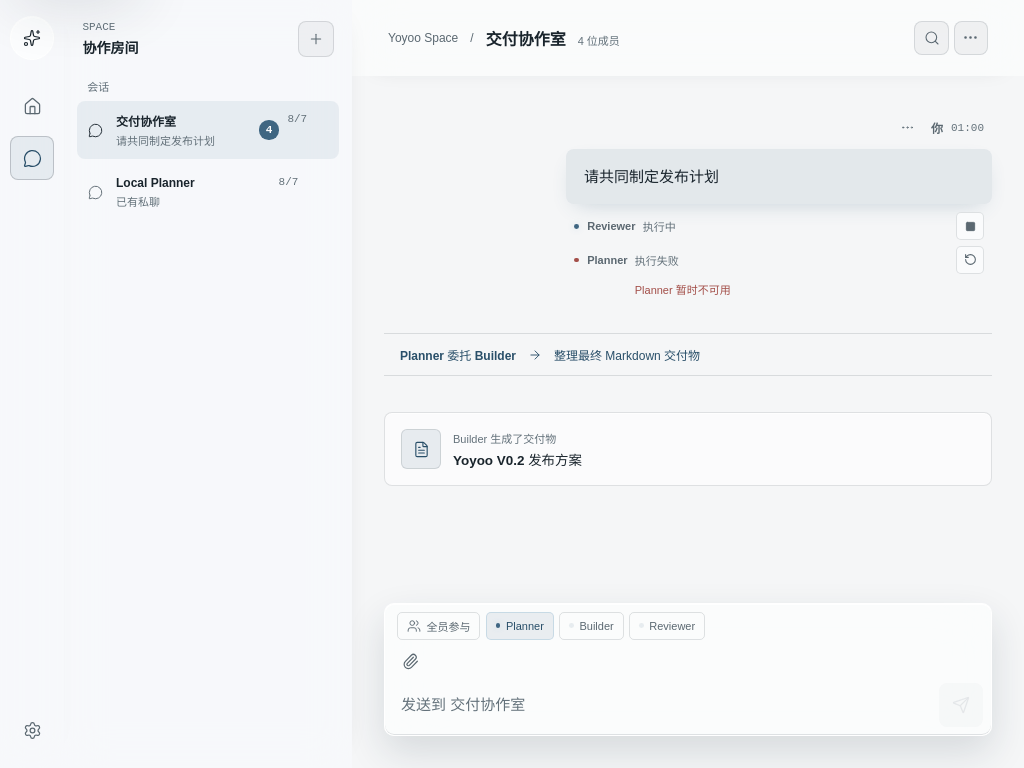
Scenario: CollaborationRoom › shows only real conversations and opens an existing direct room from the rail
Expected: the heading "交付协作室" is shown, left=486, top=26, right=566, bottom=50
Expected: the text named "4条未读消息" is shown, left=259, top=120, right=279, bottom=140
Click the button with aria-label "切换到Local Planner". click: click(192, 192)
box: left=77, top=164, right=307, bottom=221
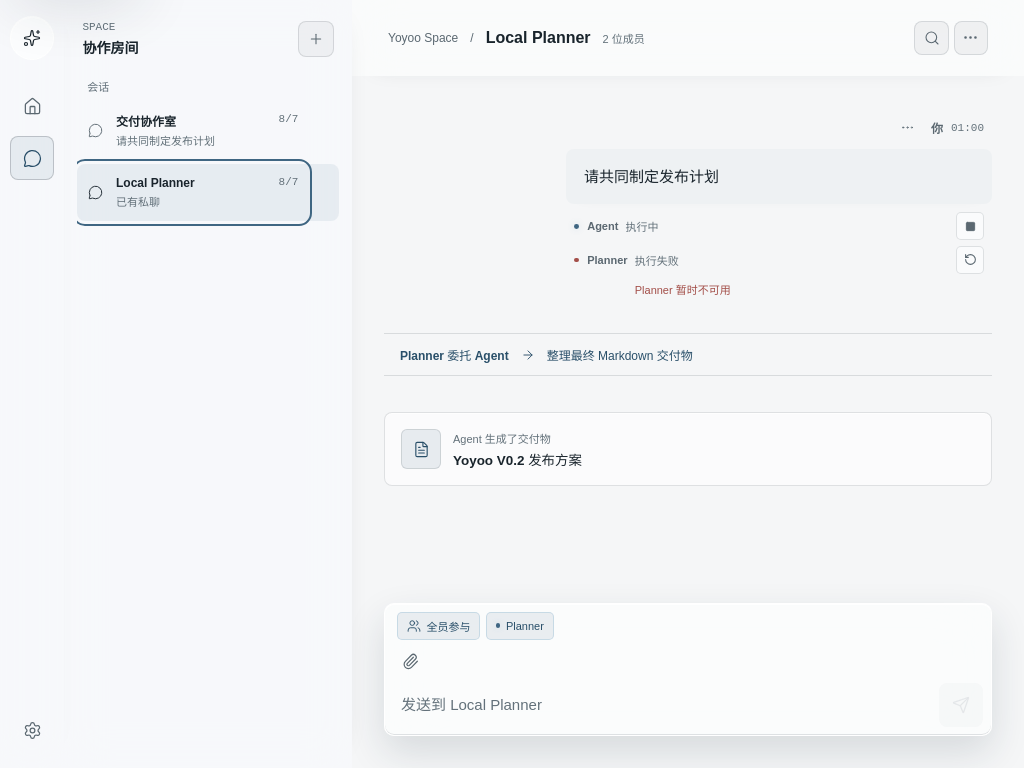
Expected: the heading "Local Planner" is shown, left=486, top=29, right=590, bottom=47
